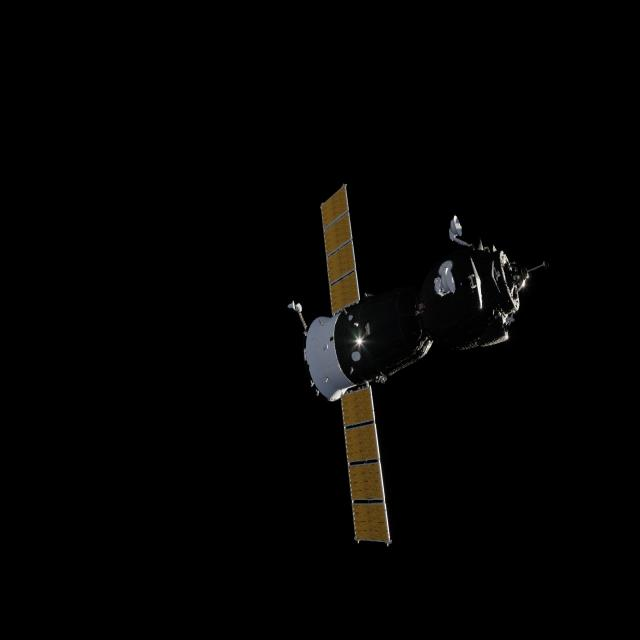Satellites revolving around earth: (286, 180, 549, 548)
